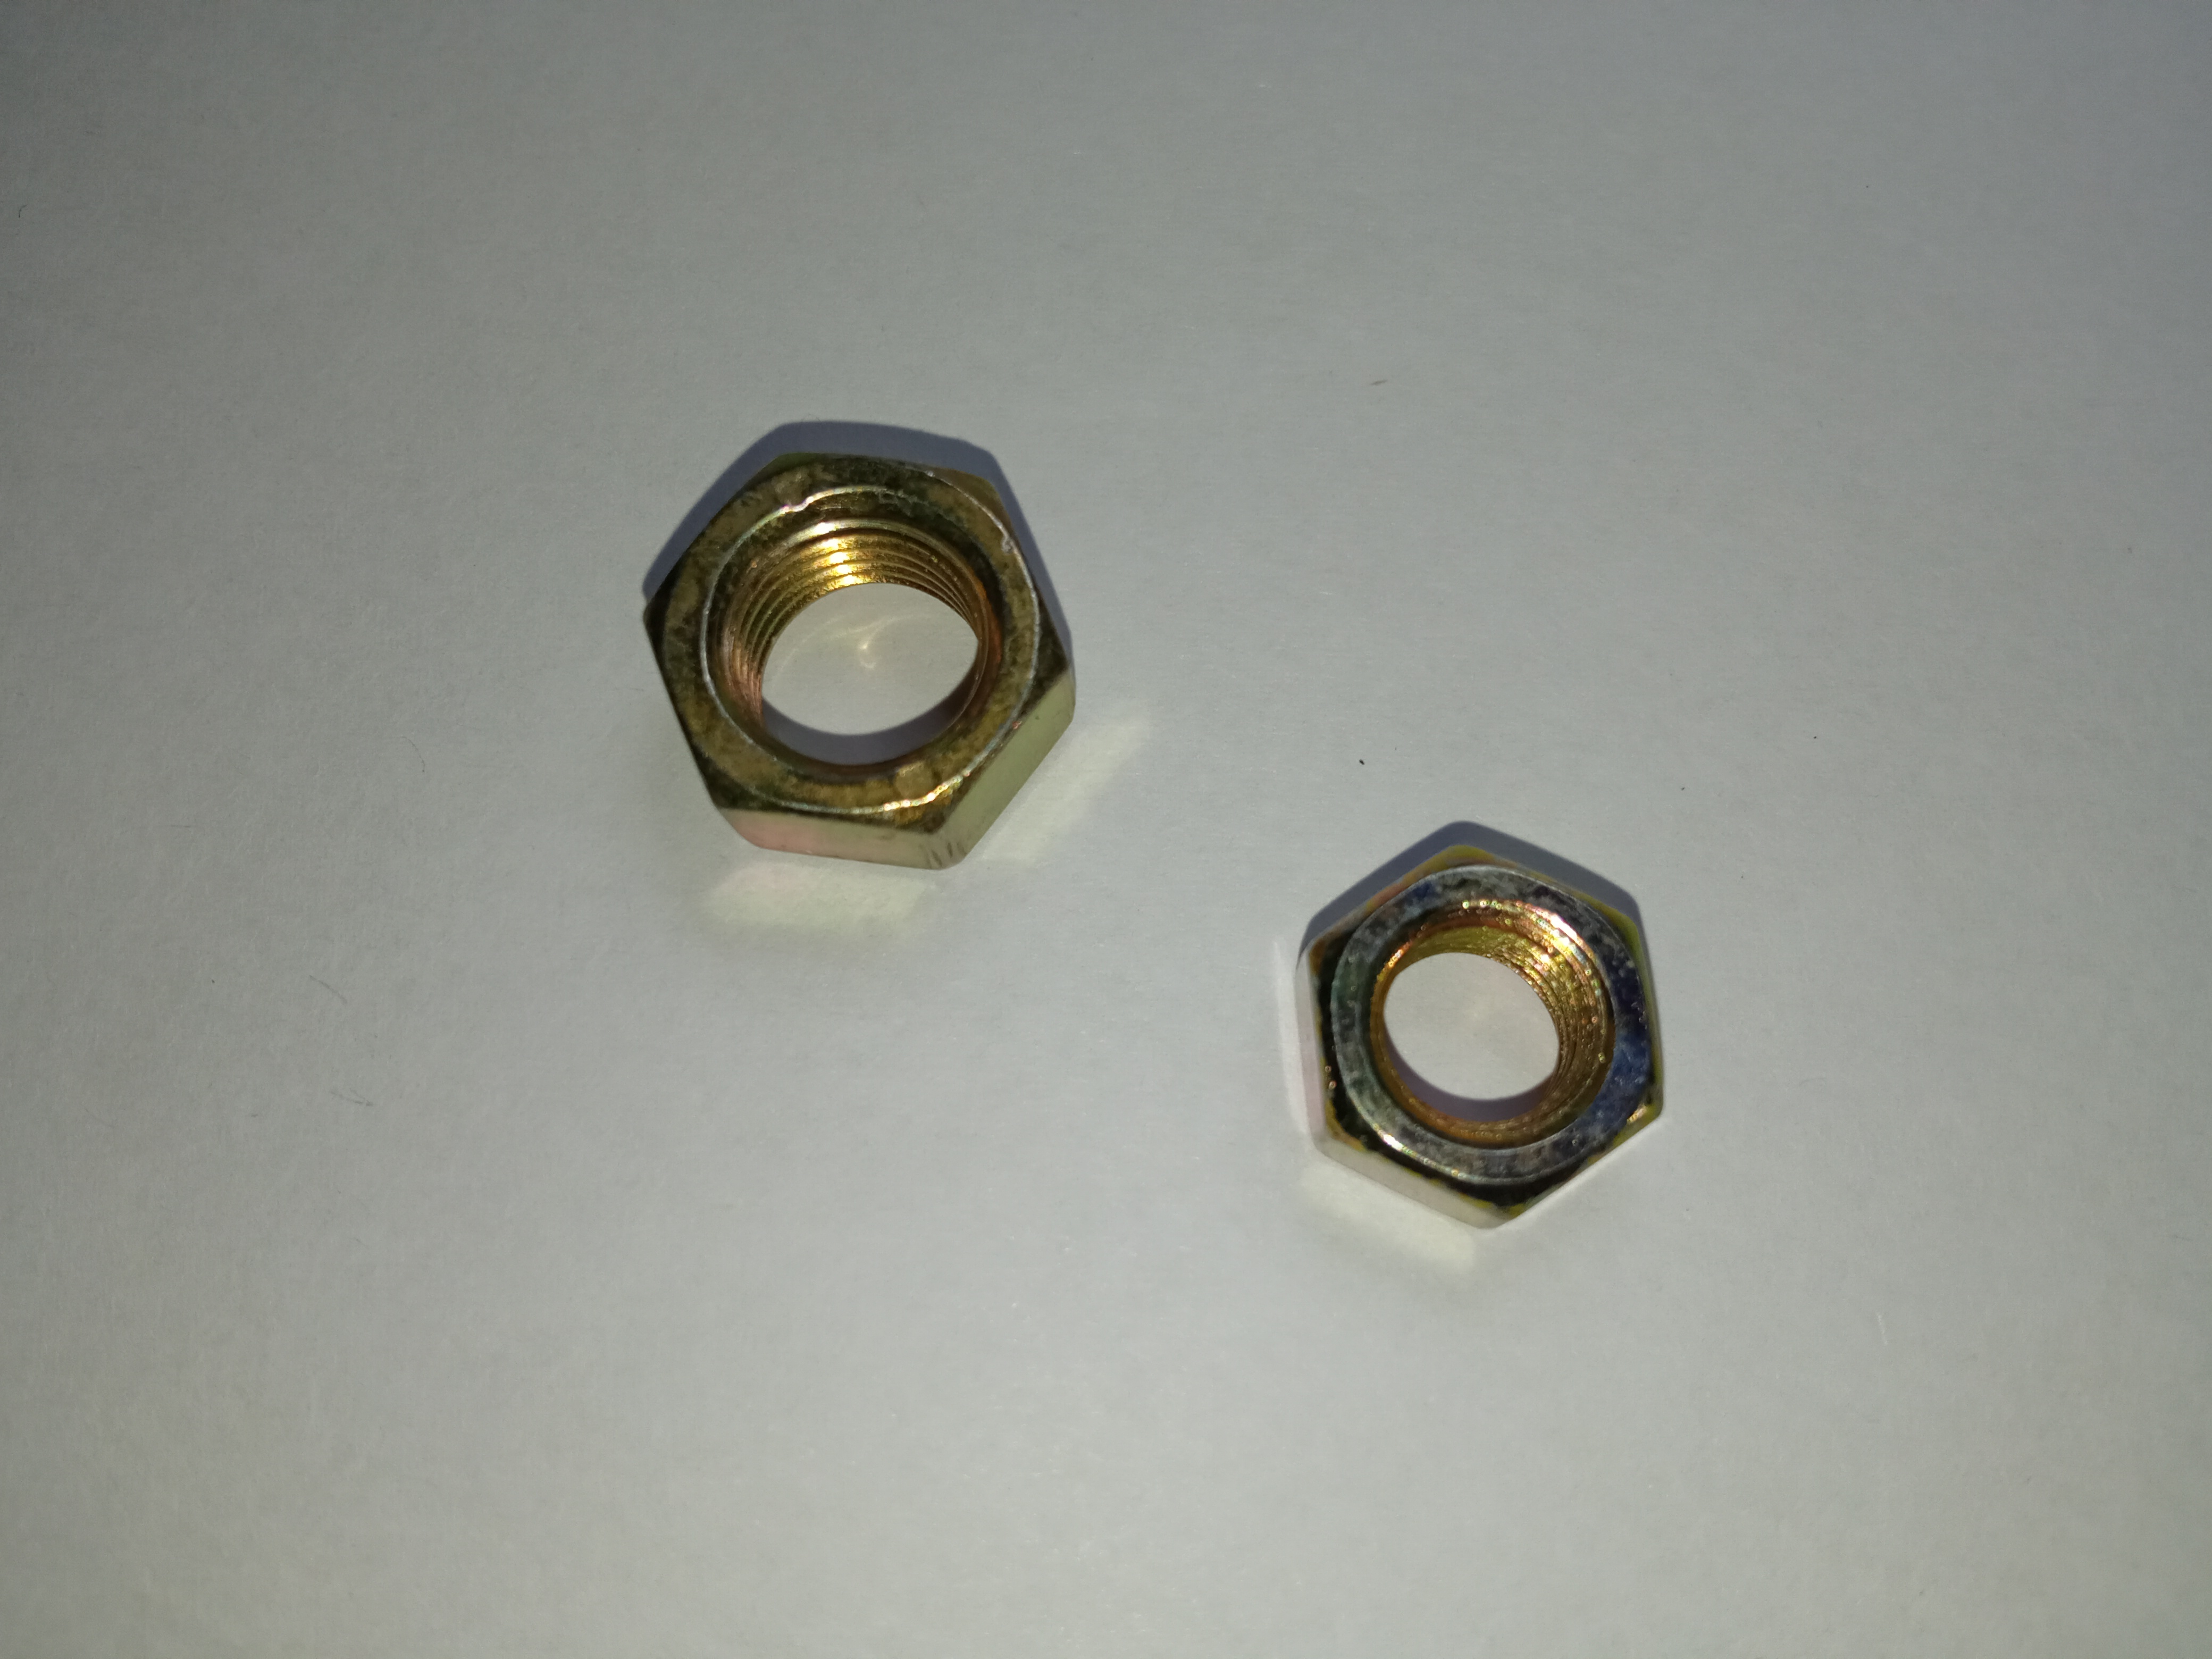m10: (646, 471, 1066, 866)
m8: (1303, 852, 1660, 1206)
